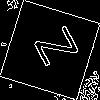Z: (25, 25, 79, 74)
